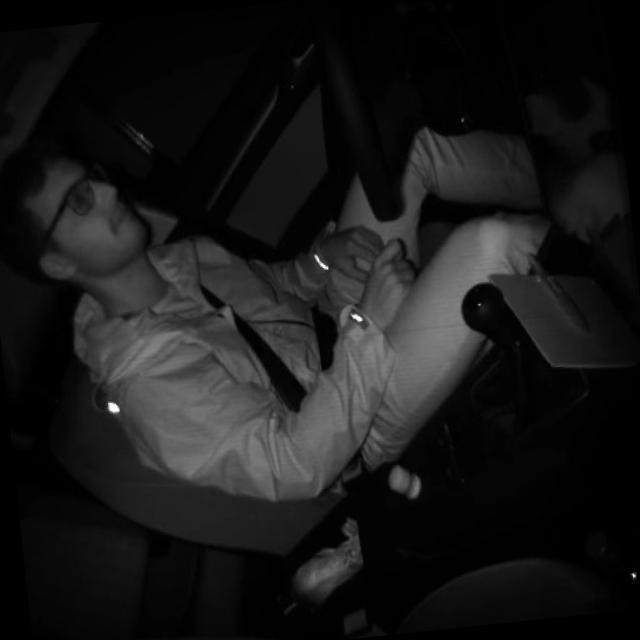pen: (523, 242, 586, 336)
